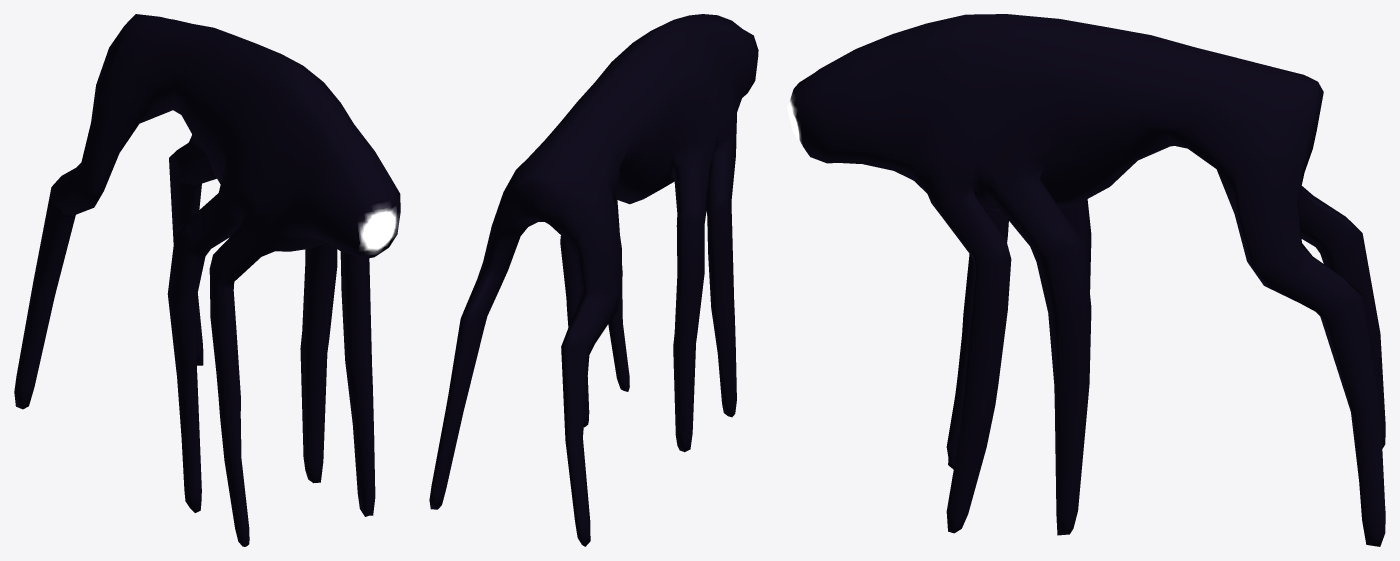
Rendered from Game2-WOLF-still.fbx.
The picture shows the model from 3 angles, left to right: view 1: azimuth 30°, elevation 25°; view 2: azimuth 150°, elevation 25°; view 3: azimuth 270°, elevation 25°; orthographic projection. The views are drawn at different scales.
Parts seen in each view (by area): view 1: Wolf_geo; view 2: Wolf_geo; view 3: Wolf_geo.
Boxes of the visible parts, x1,y1,x2,y2 form: Wolf_geo: [14, 14, 400, 546]; Wolf_geo: [429, 14, 758, 546]; Wolf_geo: [787, 14, 1385, 546].
Bounding box in the file's own units: 46.76 × 110 × 122.
